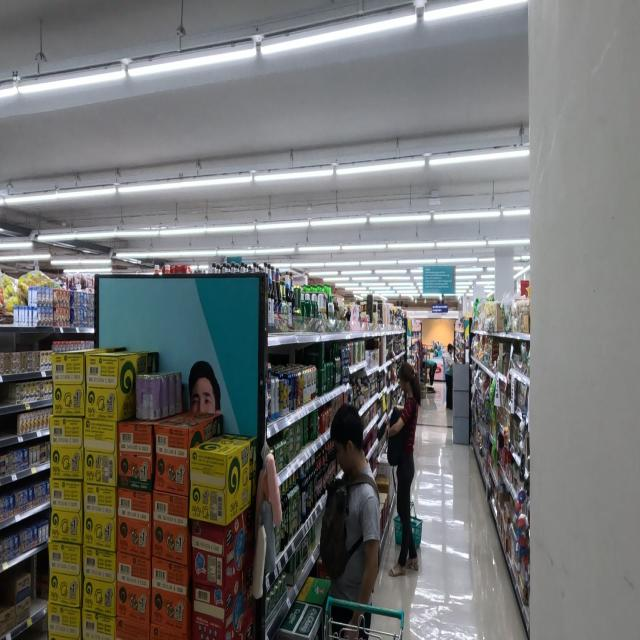shoplifting: (387, 351, 419, 574)
